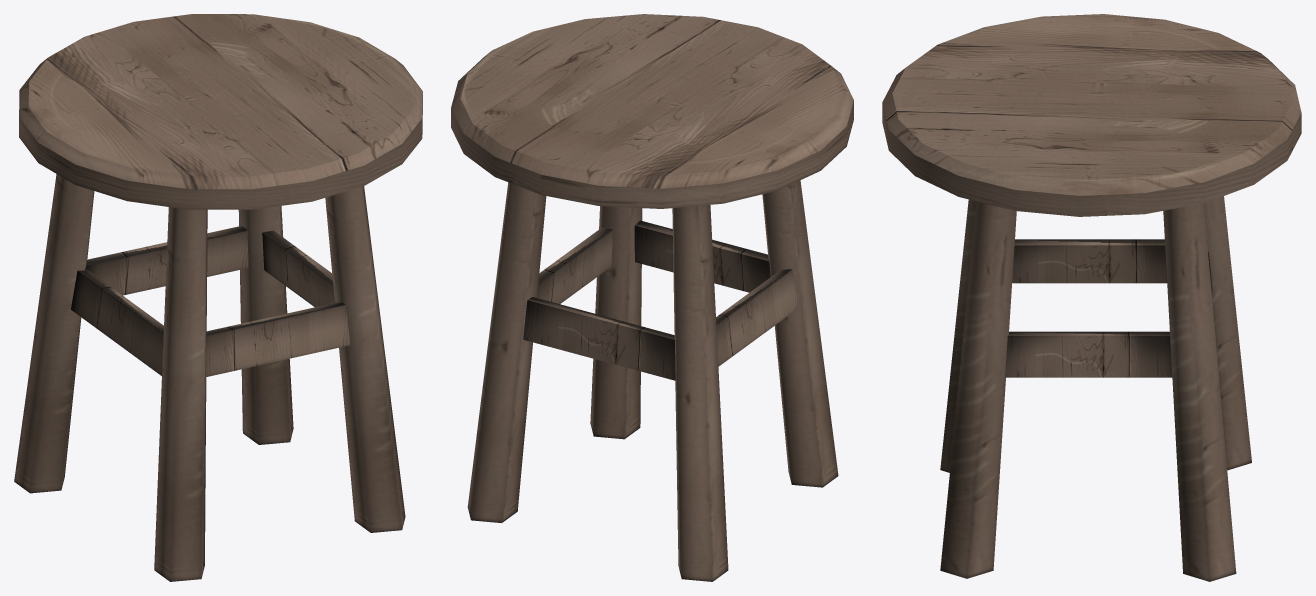
File: stool.fbx
3 renders of one model, left to right at view 1: azimuth 30°, elevation 25°; view 2: azimuth 150°, elevation 25°; view 3: azimuth 270°, elevation 25°, orthographic. The views are drawn at different scales.
Parts seen in each view (by area): view 1: polySurface1806; view 2: polySurface1806; view 3: polySurface1806.
Boxes of the visible parts, x1,y1,x2,y2 form: polySurface1806: (14, 14, 422, 581); polySurface1806: (451, 14, 853, 581); polySurface1806: (882, 14, 1301, 581).
Size of the model in its own units: 47.41 by 52.24 by 47.41.
